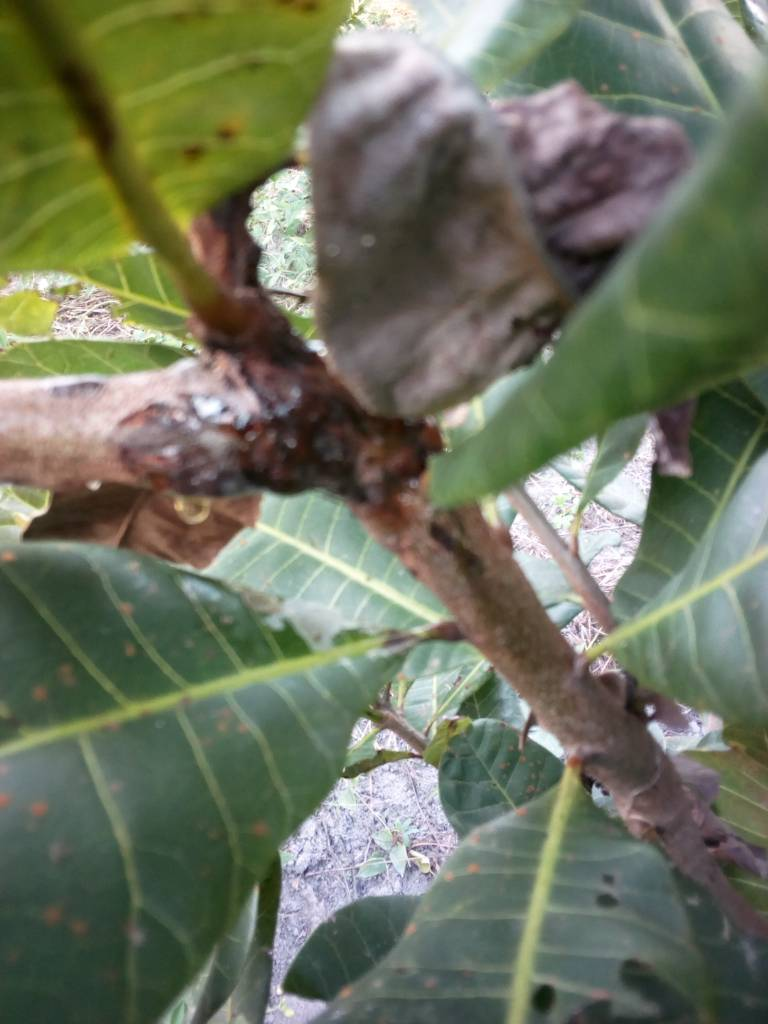Rouille: (1, 544, 402, 1024)
